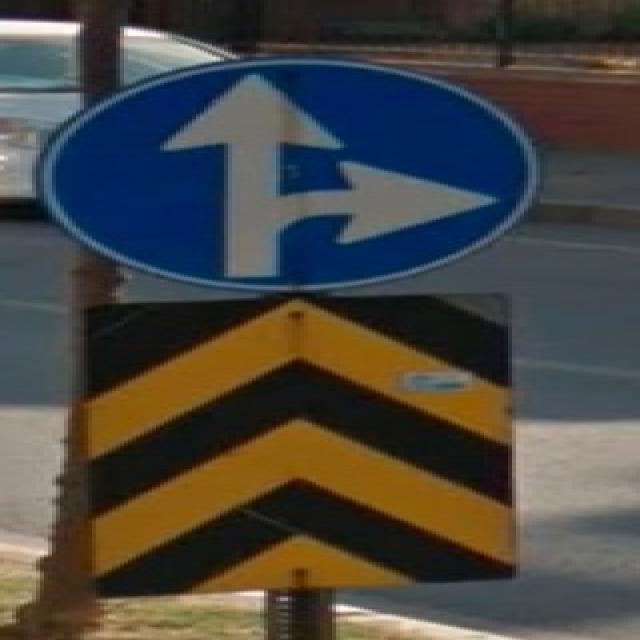Straight or Right: (45, 58, 533, 284)
